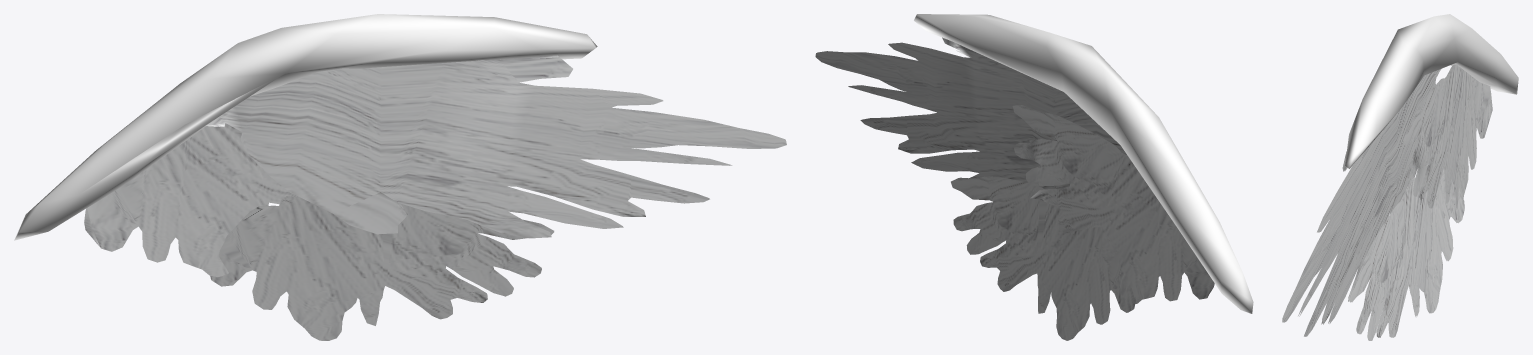
The model's file is AngelR.glb.
The picture shows the model from 3 angles, left to right: view 1: azimuth 30°, elevation 25°; view 2: azimuth 150°, elevation 25°; view 3: azimuth 270°, elevation 25°; orthographic projection. The views are drawn at different scales.
Visible parts, largest first — view 1: hane_R; view 2: hane_R; view 3: hane_R.
Part boxes in pixels (bbox=[...]): hane_R: bbox=[14, 14, 786, 340]; hane_R: bbox=[815, 14, 1253, 340]; hane_R: bbox=[1282, 14, 1518, 340].
Bounding box in the file's own units: 0.5772 × 0.2869 × 0.2167.
Materials: 1 (1 with a texture image).
